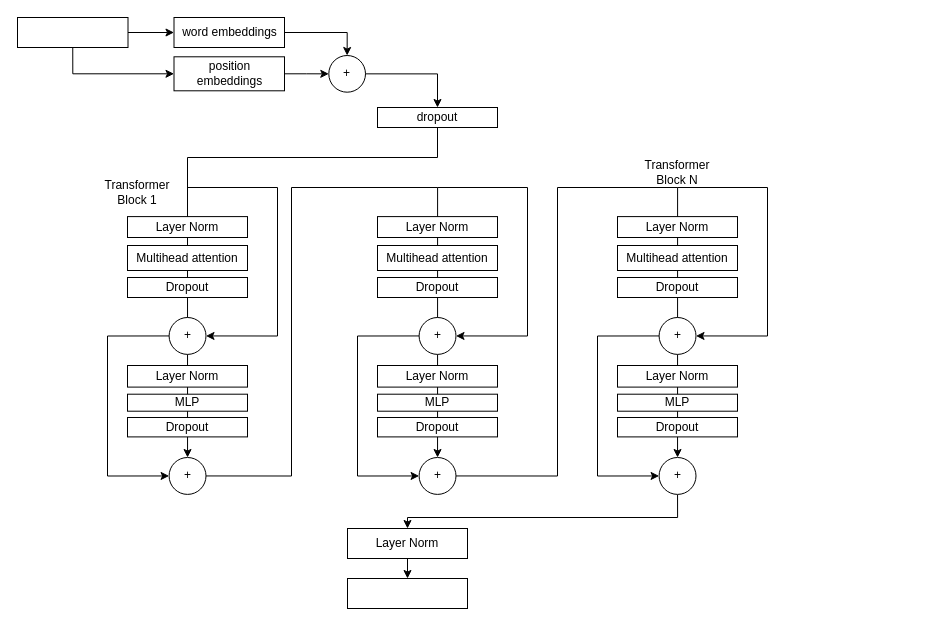
The diagram is 945 pixels wide and 626 high, and some of its shapes have lost their labels. Here are the shapes that lost their labels. From the top down, the centre of each, then its label:
At (72,32): "input tokens".
At (407,593): "Linear Output Layer".
